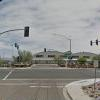Traffic light: (81, 31, 100, 48)
